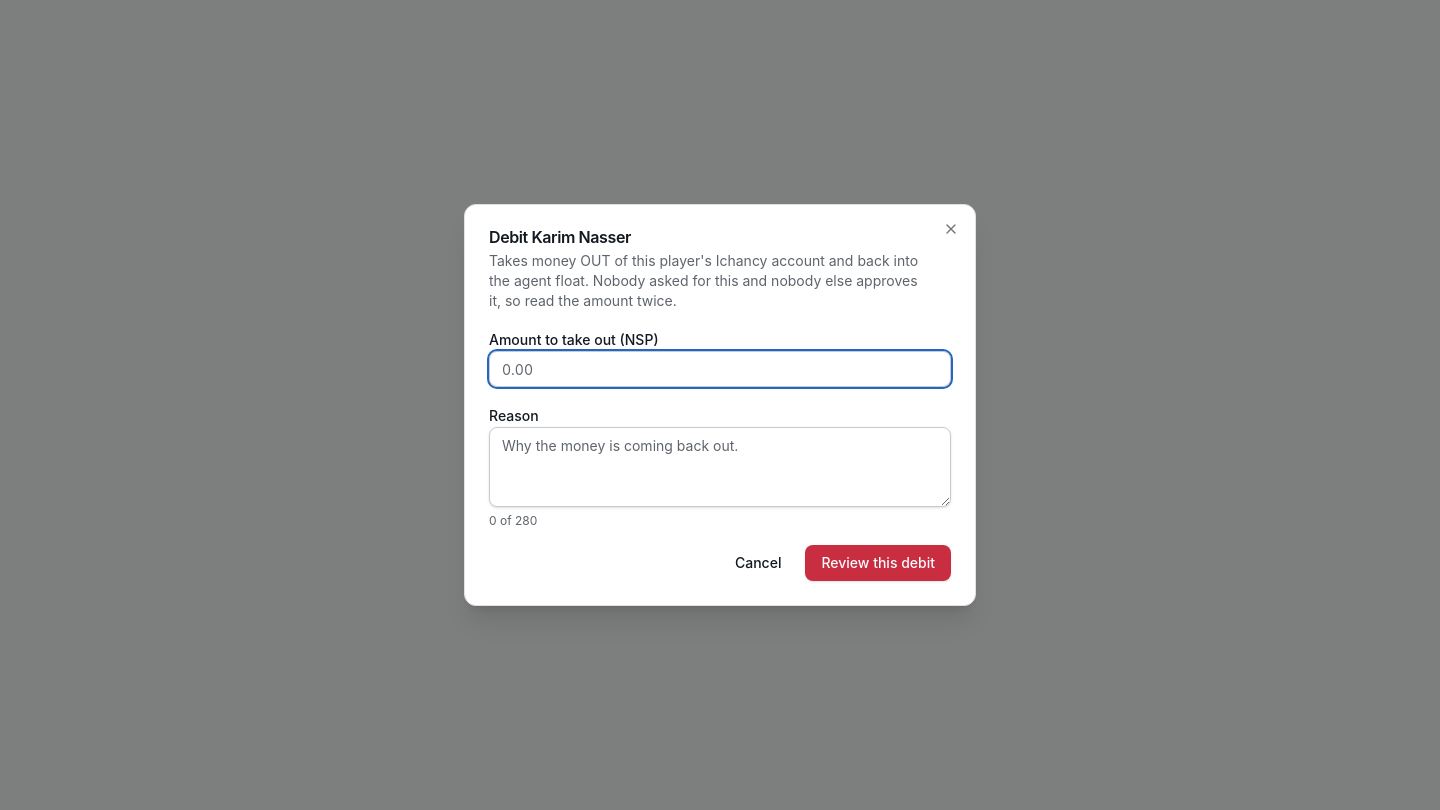
Test: DebitPlayerDialog › refuses an amount that is not a plain decimal, rather than guessing at it
Type "1,500" into the field labelled "Amount to take out (NSP)".
click(720, 369); type("1,500")  # box [489,351,951,387]
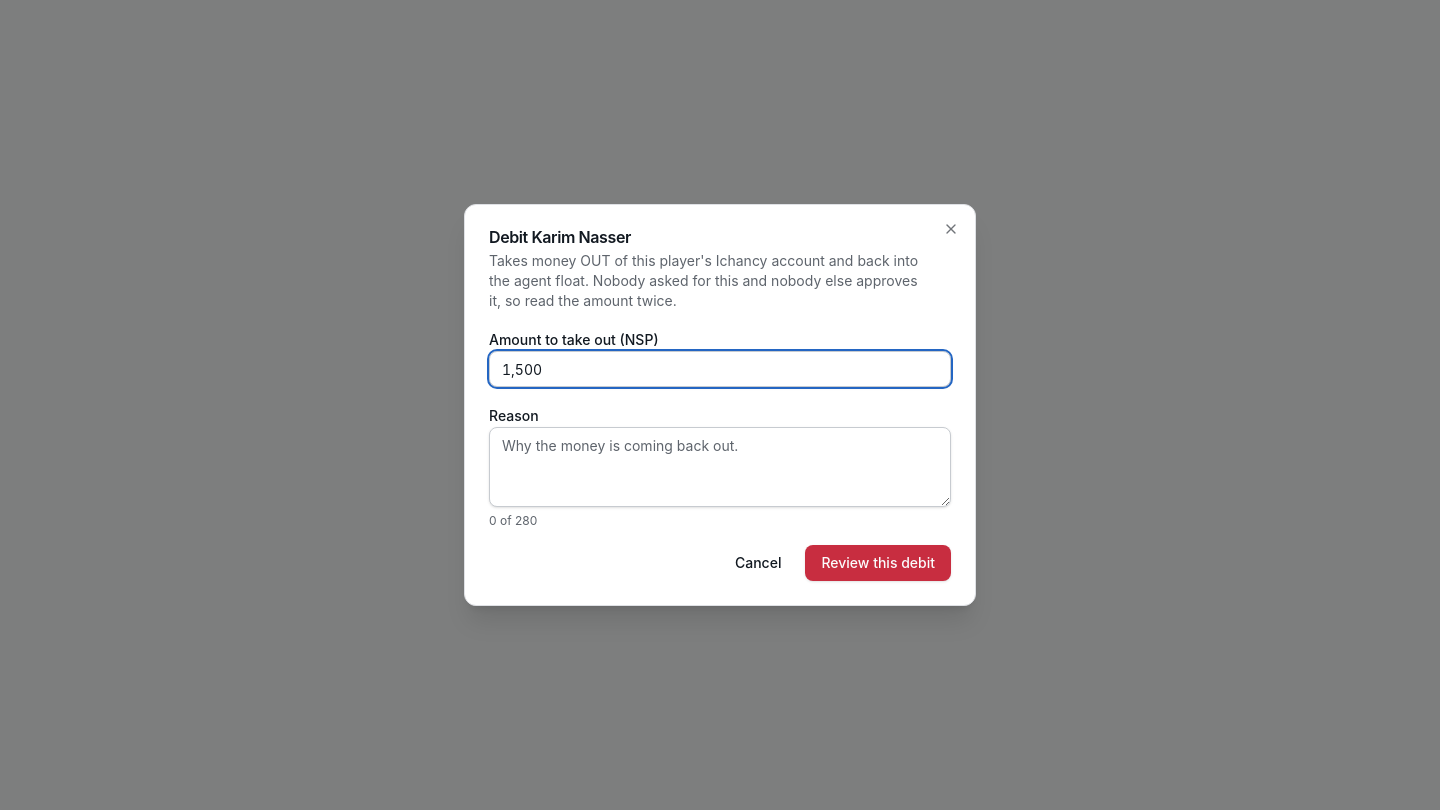
Type "Chargeback" into the text box labelled "Reason".
click(720, 467); type("Chargeback")  # box [489,427,951,507]
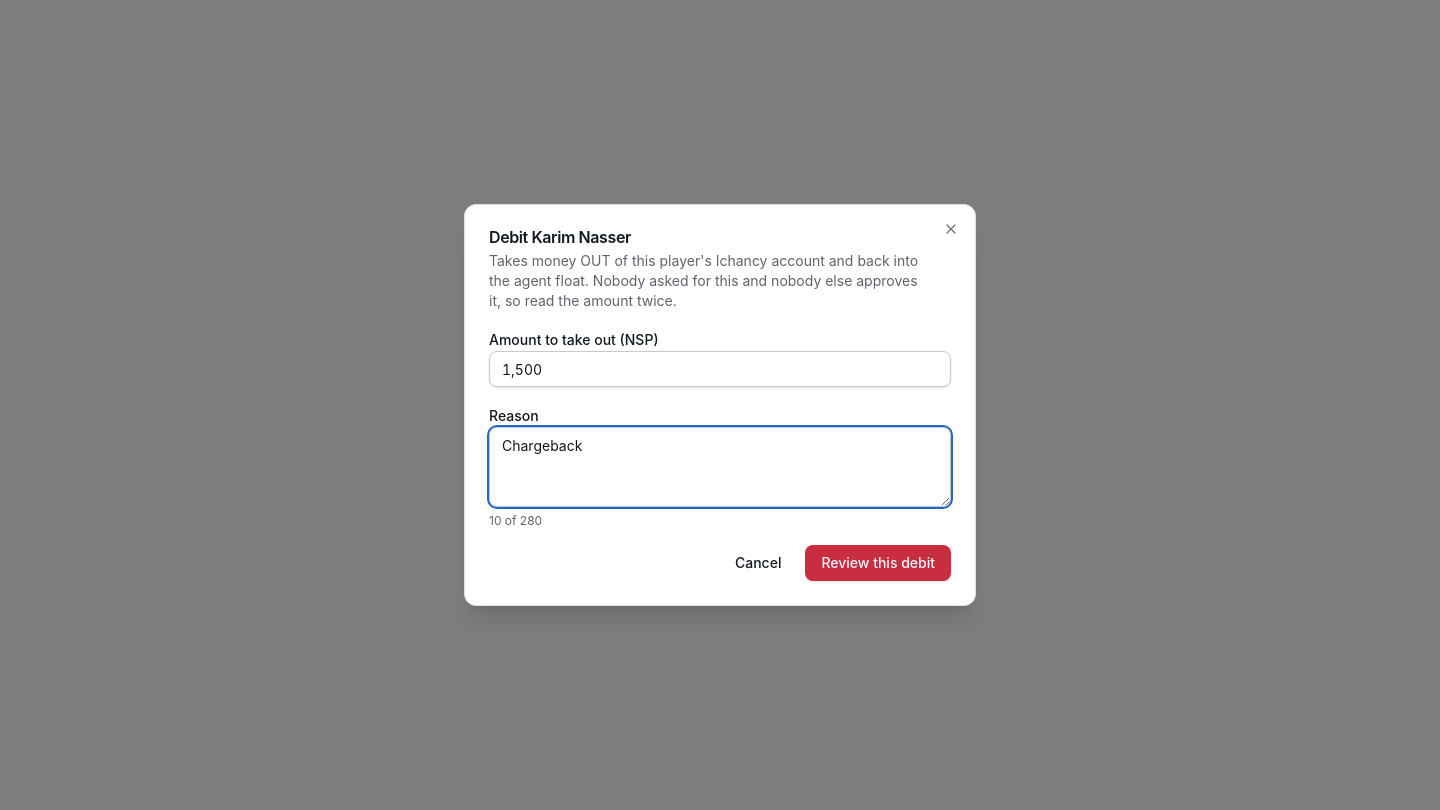
Click the button "Review this debit".
click(878, 563)  # box [805,545,951,581]
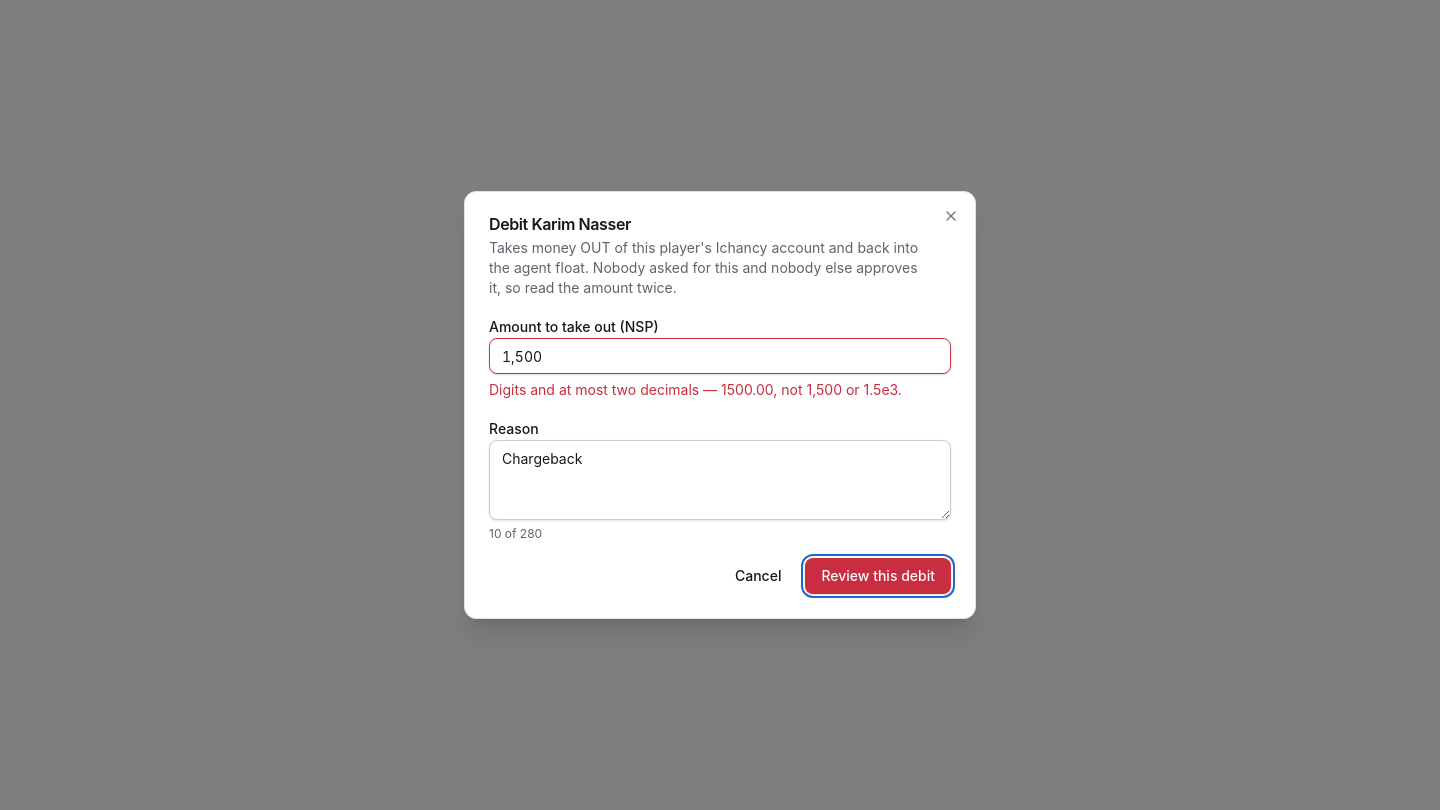
Expected: the text "Digits and at most two decimals — 1500.00, not 1,500 or 1.5e3." is shown, [489,380,951,400]
